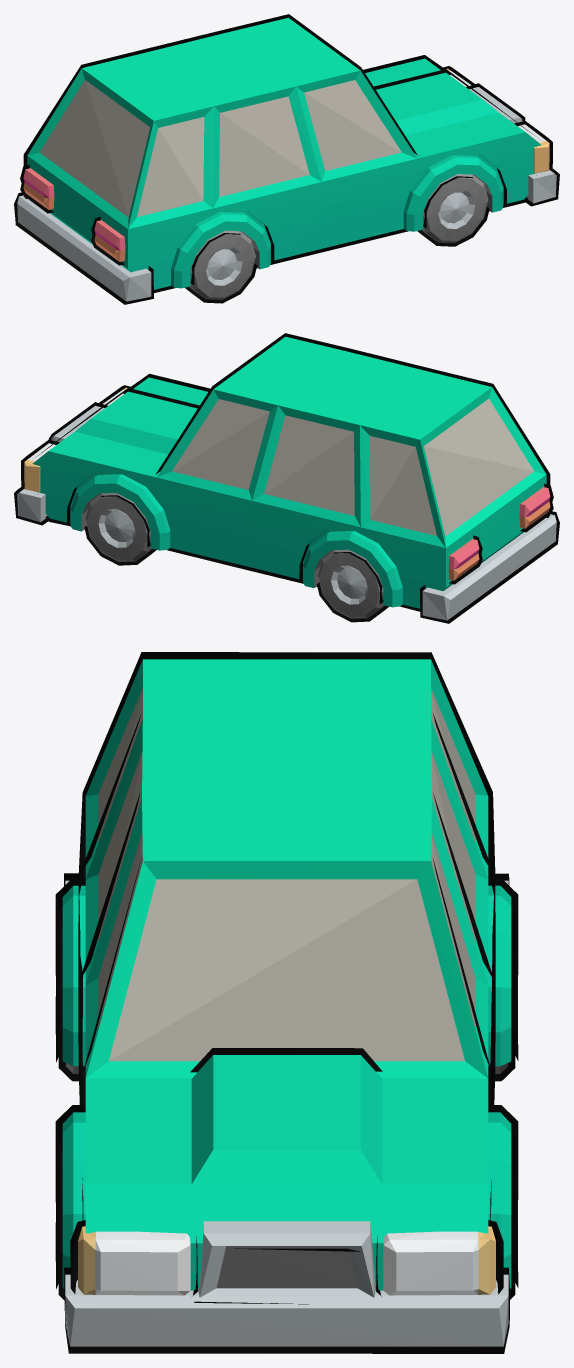
Rendered from BR_Auto_Kombi.glb.
The picture shows the model from 3 angles, top to bottom: view 1: azimuth 30°, elevation 25°; view 2: azimuth 150°, elevation 25°; view 3: azimuth 270°, elevation 25°; orthographic projection. The views are drawn at different scales.
Parts seen in each view (by area): view 1: BR_Auto_Kombi_Mesh, BR_Auto_Kombi_Outline; view 2: BR_Auto_Kombi_Mesh, BR_Auto_Kombi_Outline; view 3: BR_Auto_Kombi_Mesh, BR_Auto_Kombi_Outline.
Boxes of the visible parts, x1,y1,x2,y2 form: BR_Auto_Kombi_Mesh: [17, 18, 556, 301]; BR_Auto_Kombi_Outline: [14, 14, 559, 304]; BR_Auto_Kombi_Mesh: [17, 336, 556, 620]; BR_Auto_Kombi_Outline: [14, 333, 559, 623]; BR_Auto_Kombi_Mesh: [62, 659, 511, 1346]; BR_Auto_Kombi_Outline: [55, 652, 518, 1353].
Bounding box in the file's own units: 4.09 × 1.65 × 1.86.
